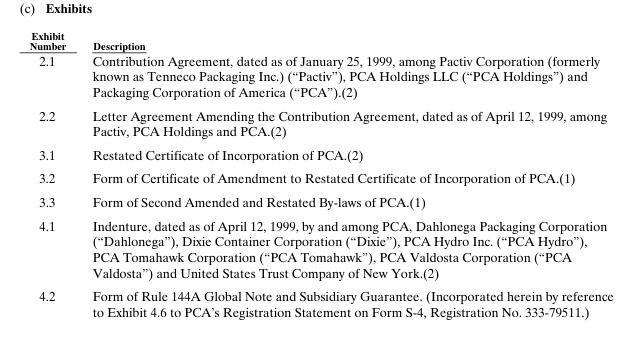table: (28, 29, 612, 319)
table column: (78, 29, 612, 319), (28, 29, 78, 319)
table column header: (28, 29, 612, 51)
table row: (28, 213, 612, 283), (28, 51, 612, 103), (28, 103, 612, 142), (28, 283, 612, 319), (28, 142, 612, 166), (28, 189, 612, 213), (28, 166, 612, 189), (28, 29, 612, 51)
